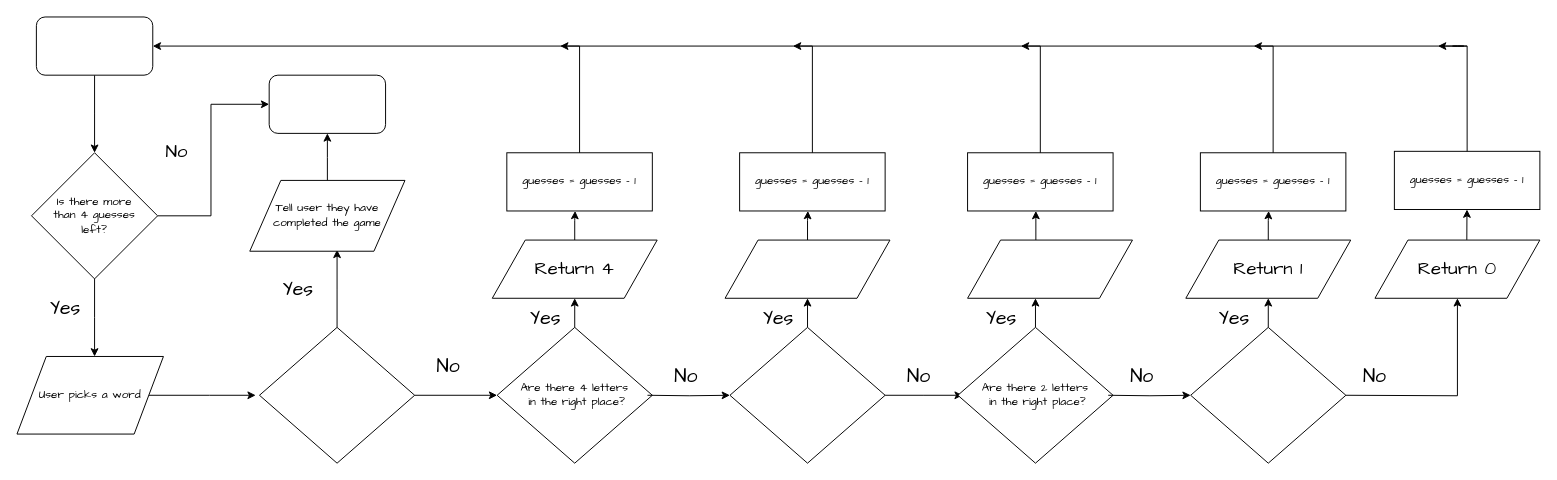
Some shapes in this 1557 by 480 pixel diagram are drawn without their labels. The box of each missing label's shape, as (x1, y1, x2, y2) in pixels:
Are there 1 letters in the right place?: (1190, 326, 1346, 463)
Are there 3 letters in the right place?: (729, 326, 885, 463)
End: (268, 74, 386, 133)
Is the word correct?: (259, 326, 415, 463)
Return 2: (967, 239, 1132, 298)
Return 3: (724, 239, 890, 298)
Start: (35, 16, 153, 75)
